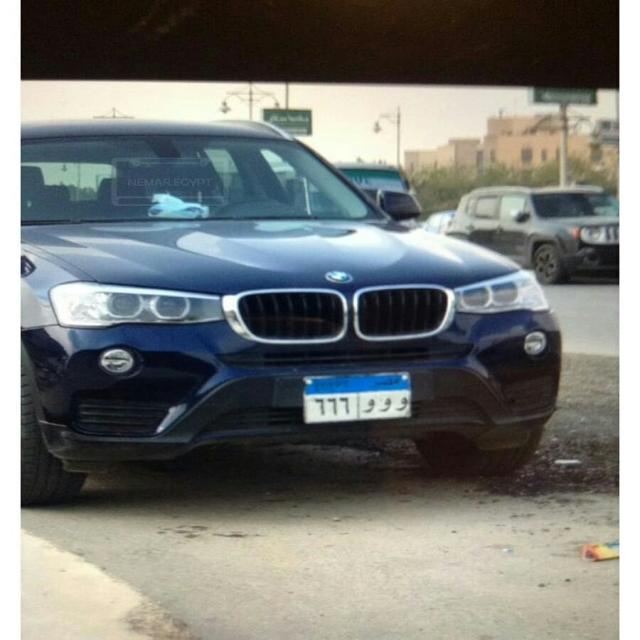License Plate: (300, 370, 414, 426)
